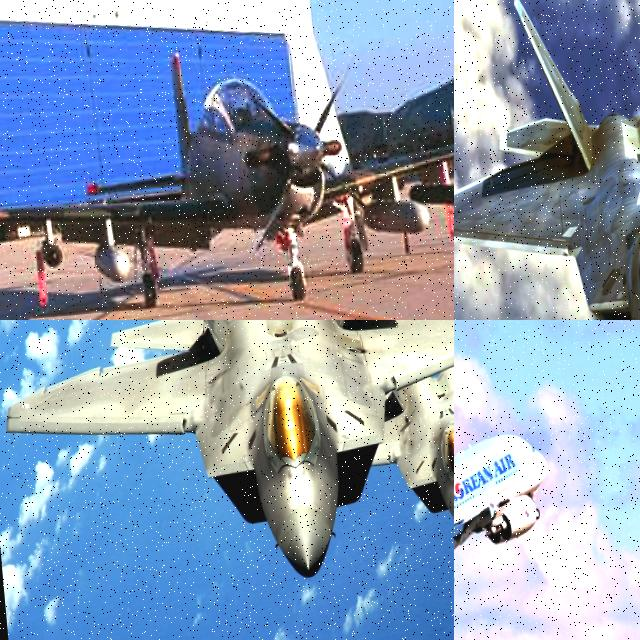A380: (454, 423, 560, 617)
F22: (0, 320, 454, 587), (454, 0, 640, 320), (317, 328, 454, 552)
KT-1: (0, 24, 454, 320)
